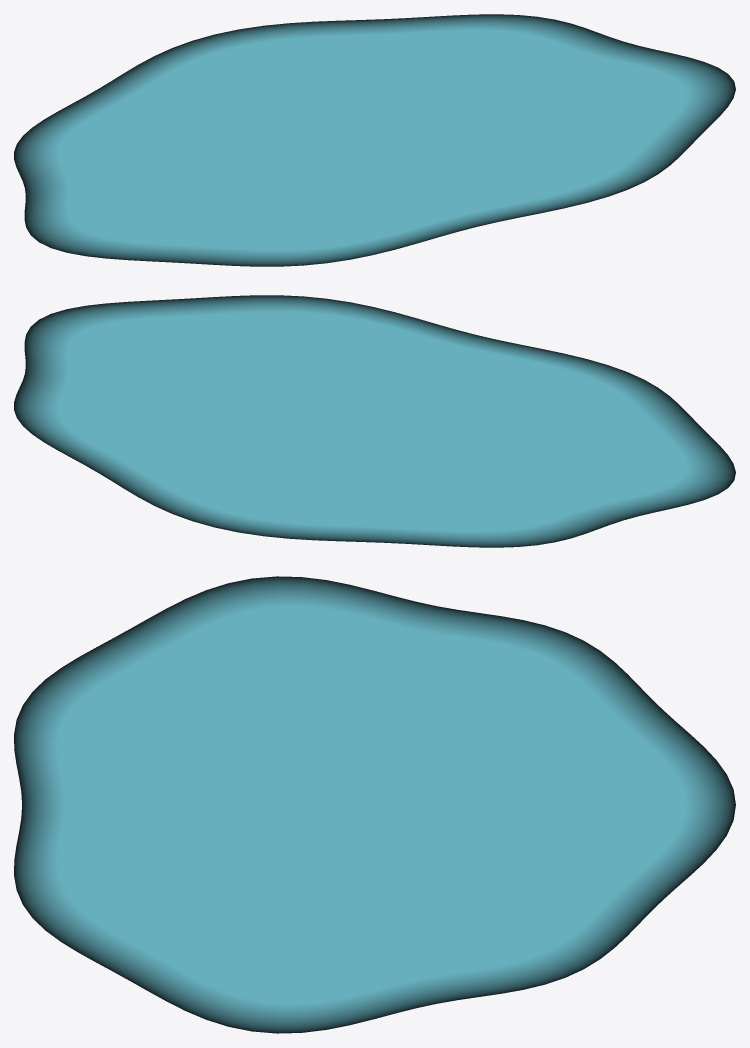
File: SM_SF_WestPuddle.fbx
3 renders of one model, top to bottom at view 1: azimuth 30°, elevation 25°; view 2: azimuth 150°, elevation 25°; view 3: azimuth 270°, elevation 25°, orthographic. The views are drawn at different scales.
Parts seen in each view (by area): view 1: SM_SF_WestPuddle; view 2: SM_SF_WestPuddle; view 3: SM_SF_WestPuddle.
Part boxes in pixels (<box>): SM_SF_WestPuddle: <box>14,14,735,266</box>; SM_SF_WestPuddle: <box>14,295,735,547</box>; SM_SF_WestPuddle: <box>14,576,735,1033</box>.
Bounding box in the file's own units: 11.21 × 7.48 × 0.
